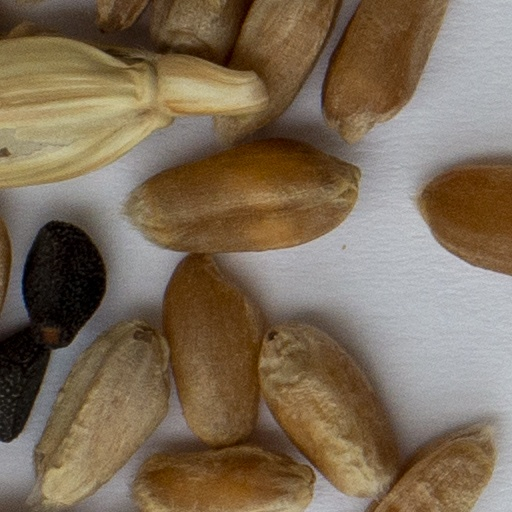Peel-poly: (0, 33, 272, 186)
